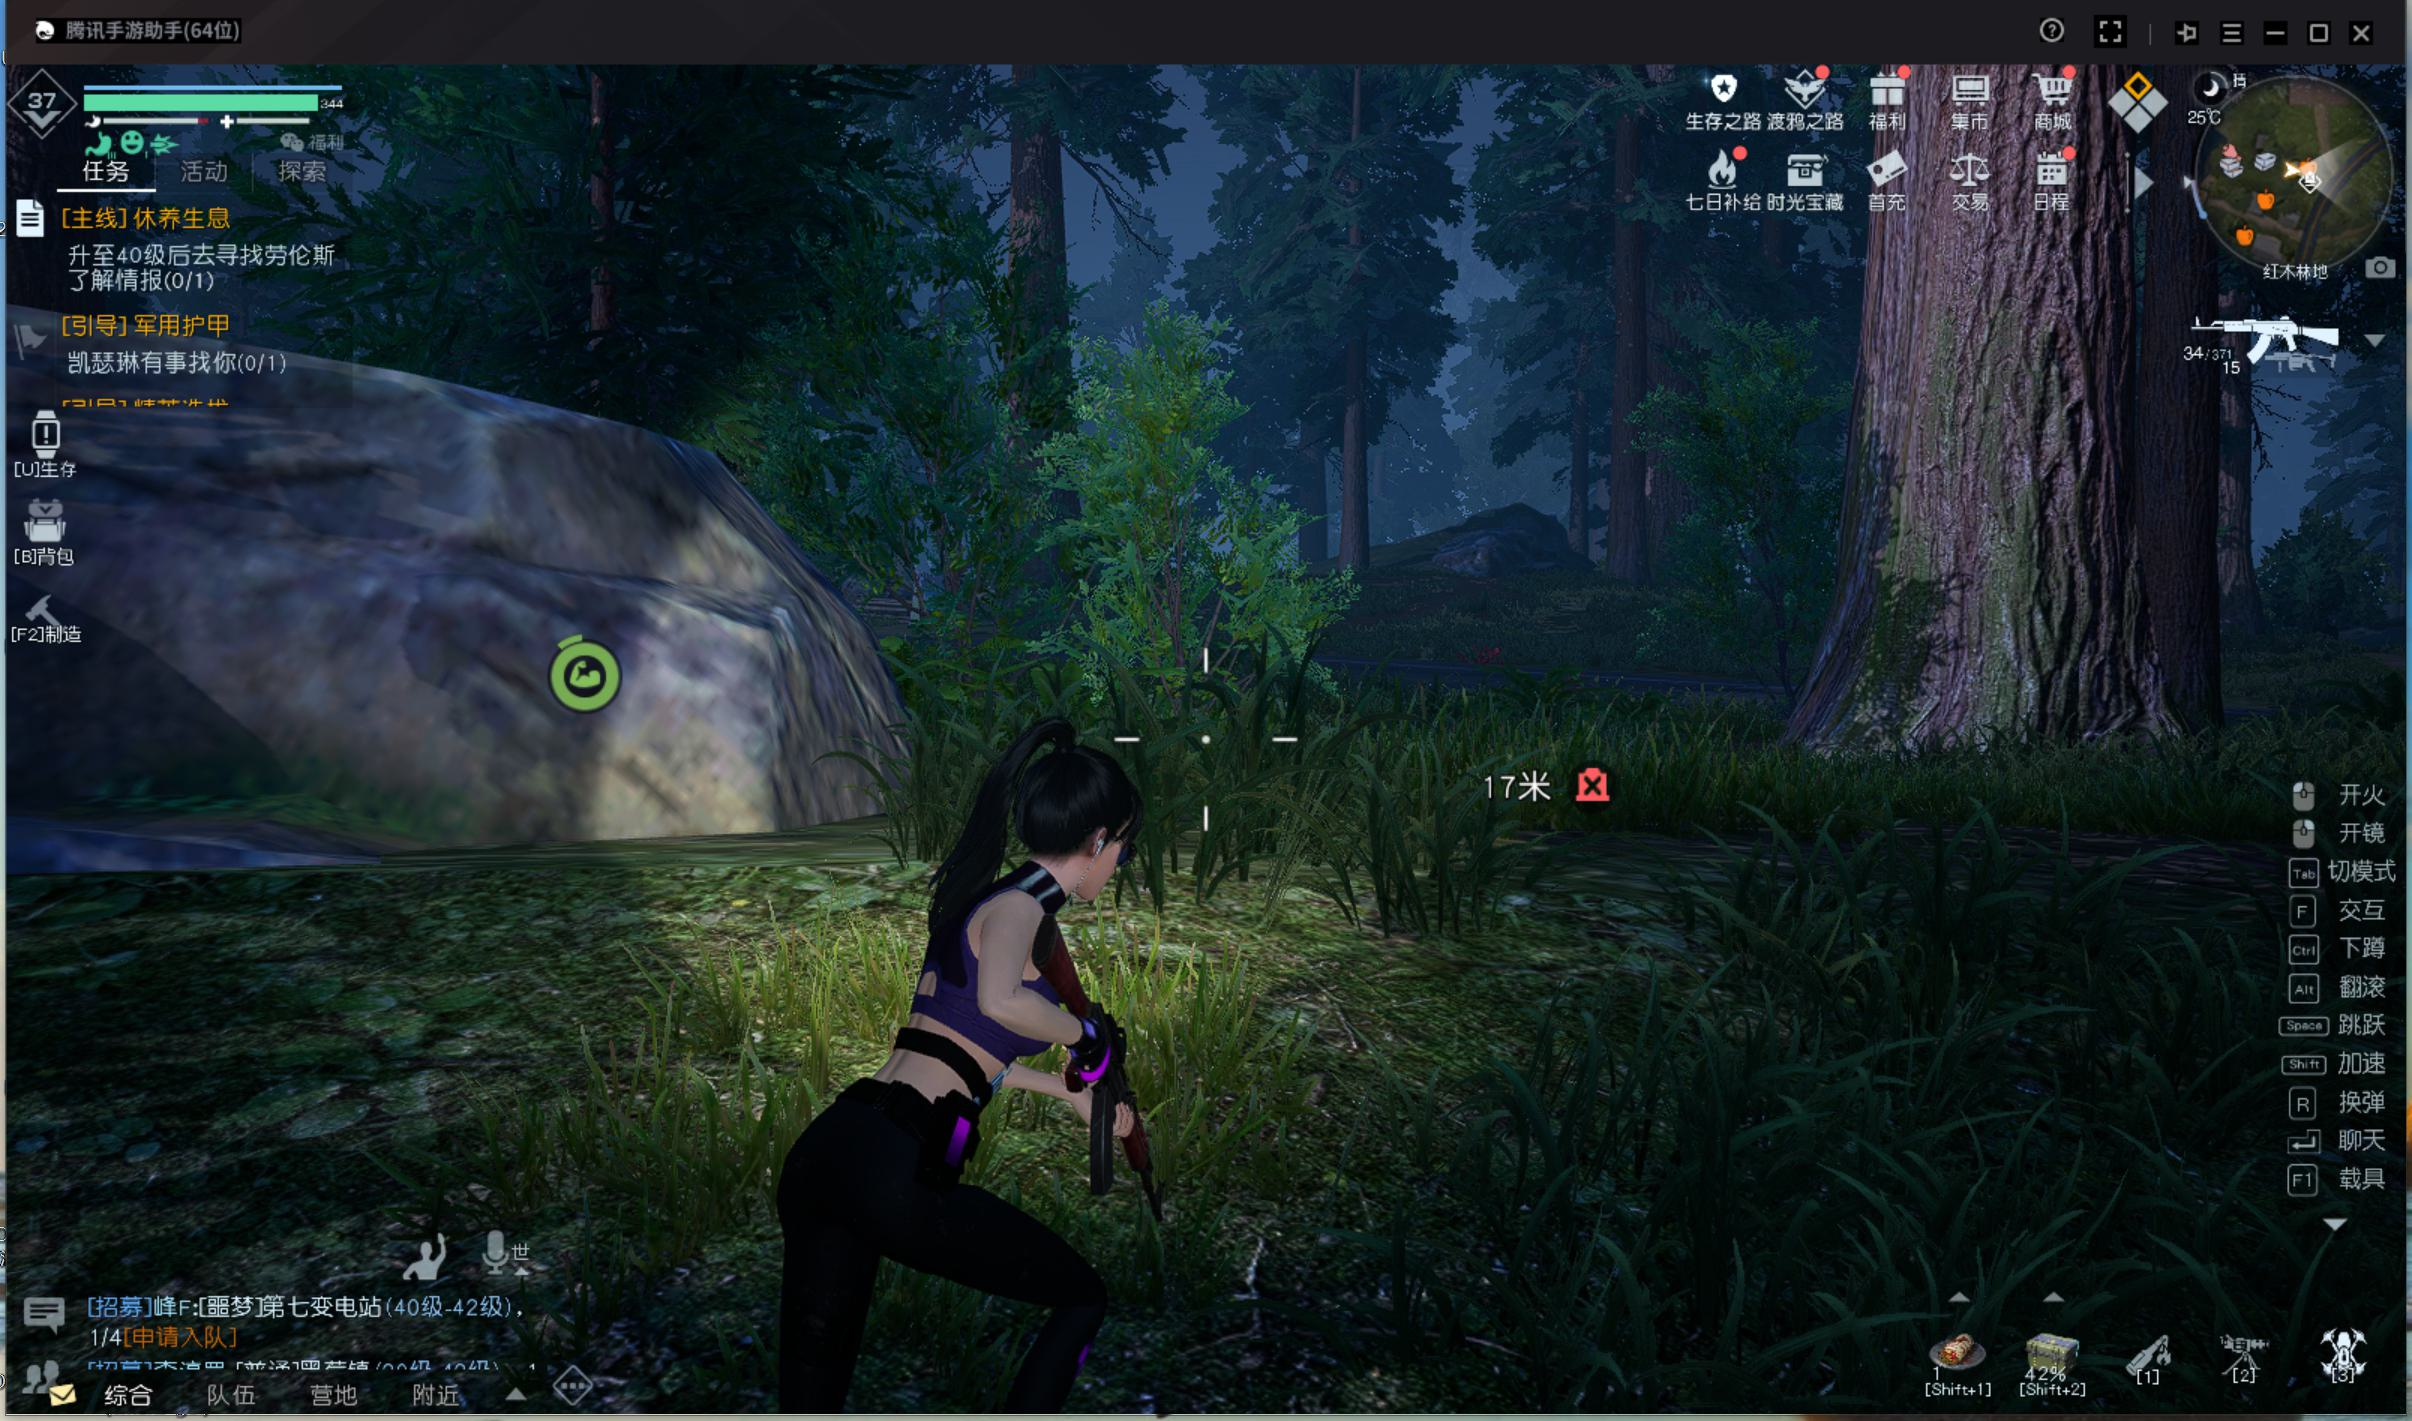tree: (983, 174, 1088, 661), (1603, 293, 1653, 612), (1333, 386, 1375, 616)
